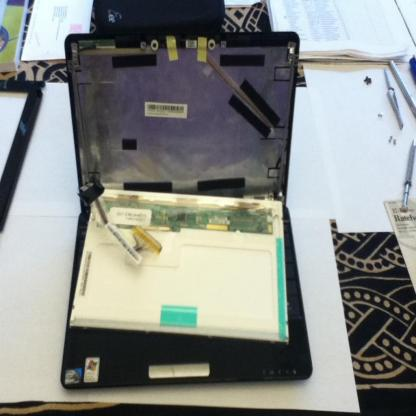board: (64, 34, 314, 388)
